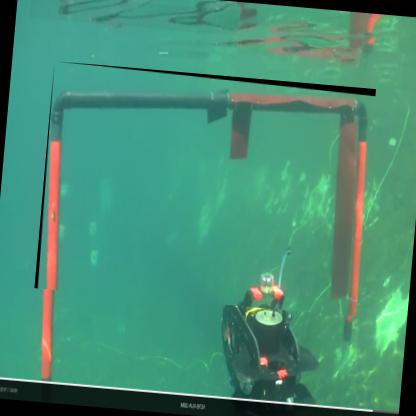gate: (35, 62, 378, 318)
